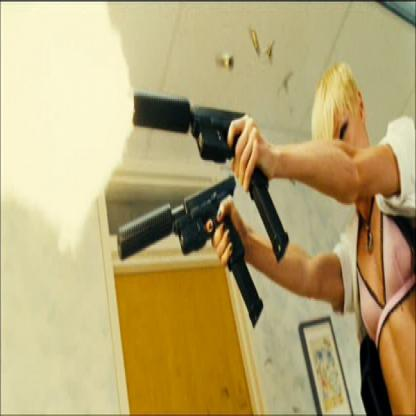Gun: (115, 83, 293, 330)
